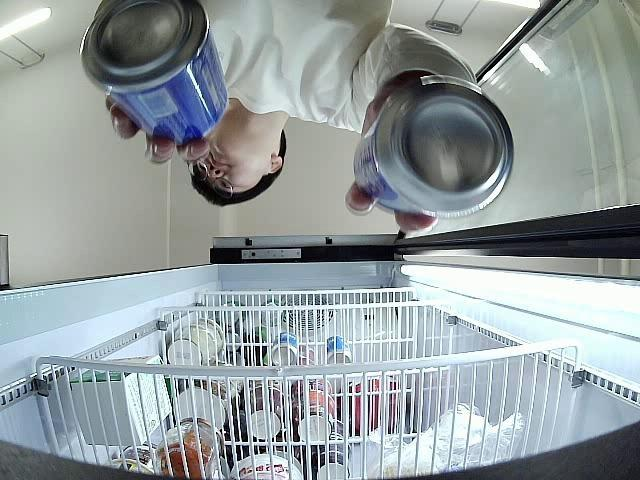13_pocariSweat: (354, 74, 515, 220), (80, 0, 229, 147)
